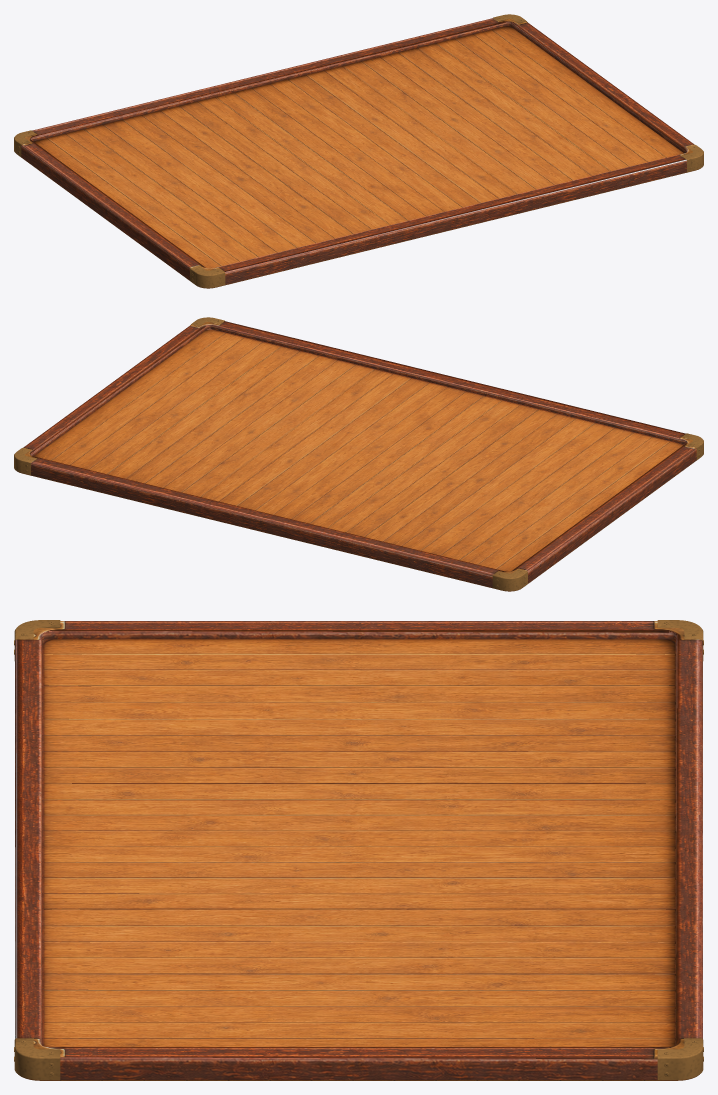
Rendered from chapter3_ground_pbr.glb.
3 views of the same model, one above another, from view 1: azimuth 30°, elevation 25°; view 2: azimuth 150°, elevation 25°; view 3: azimuth 270°, elevation 25° (orthographic). The views are drawn at different scales.
Visible parts, largest first — view 1: FloorPlanks_top_oak, Perimeter_top_oak, Perimeter_frame_wood, FloorPlanks_frame_wood, CopperCorners_copper, Substructure_under_wood; view 2: FloorPlanks_top_oak, Perimeter_top_oak, Perimeter_frame_wood, FloorPlanks_frame_wood, CopperCorners_copper, Substructure_under_wood; view 3: FloorPlanks_top_oak, Perimeter_top_oak, Perimeter_frame_wood, FloorPlanks_frame_wood, CopperCorners_copper, Substructure_under_wood.
Part boxes in pixels (x1=…): FloorPlanks_top_oak: x1=33, y1=25, x2=683, y2=268; Perimeter_top_oak: x1=22, y1=18, x2=694, y2=271; Perimeter_frame_wood: x1=21, y1=21, x2=687, y2=284; FloorPlanks_frame_wood: x1=48, y1=31, x2=662, y2=261; CopperCorners_copper: x1=14, y1=14, x2=703, y2=287; Substructure_under_wood: x1=18, y1=155, x2=700, y2=288; FloorPlanks_top_oak: x1=34, y1=328, x2=684, y2=571; Perimeter_top_oak: x1=23, y1=321, x2=696, y2=575; Perimeter_frame_wood: x1=30, y1=324, x2=696, y2=587; FloorPlanks_frame_wood: x1=52, y1=334, x2=662, y2=568; CopperCorners_copper: x1=14, y1=317, x2=703, y2=590; Substructure_under_wood: x1=17, y1=458, x2=699, y2=591; FloorPlanks_top_oak: x1=42, y1=639, x2=675, y2=1046; Perimeter_top_oak: x1=15, y1=621, x2=702, y2=1059; Perimeter_frame_wood: x1=15, y1=631, x2=702, y2=1079; FloorPlanks_frame_wood: x1=42, y1=641, x2=675, y2=1045; CopperCorners_copper: x1=14, y1=620, x2=703, y2=1079; Substructure_under_wood: x1=18, y1=652, x2=699, y2=1080.
Bounding box in the file's own units: 2.81 × 0.0738 × 1.87.
Materials: 5 (5 with a texture image).
